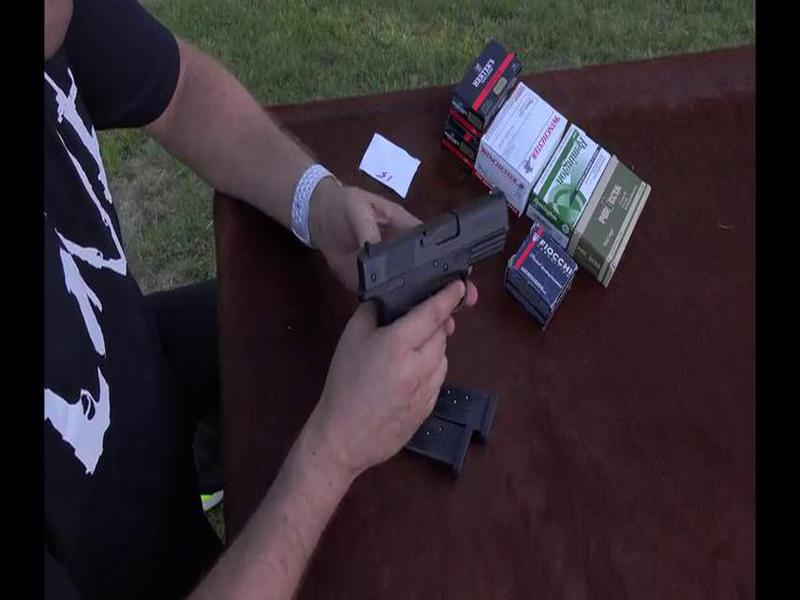Pistola: (341, 180, 539, 355)
